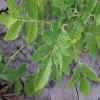Potato leaf early blight: (35, 59, 52, 91), (31, 43, 54, 61), (3, 21, 22, 41), (66, 65, 81, 89), (81, 63, 99, 83), (27, 22, 38, 45), (79, 73, 89, 98), (53, 49, 62, 74), (70, 31, 82, 43)
